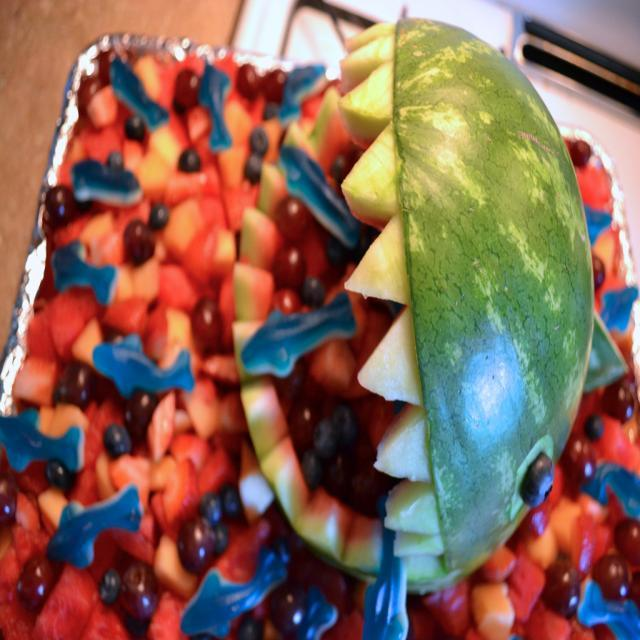Watermelon: (0, 13, 639, 639)
